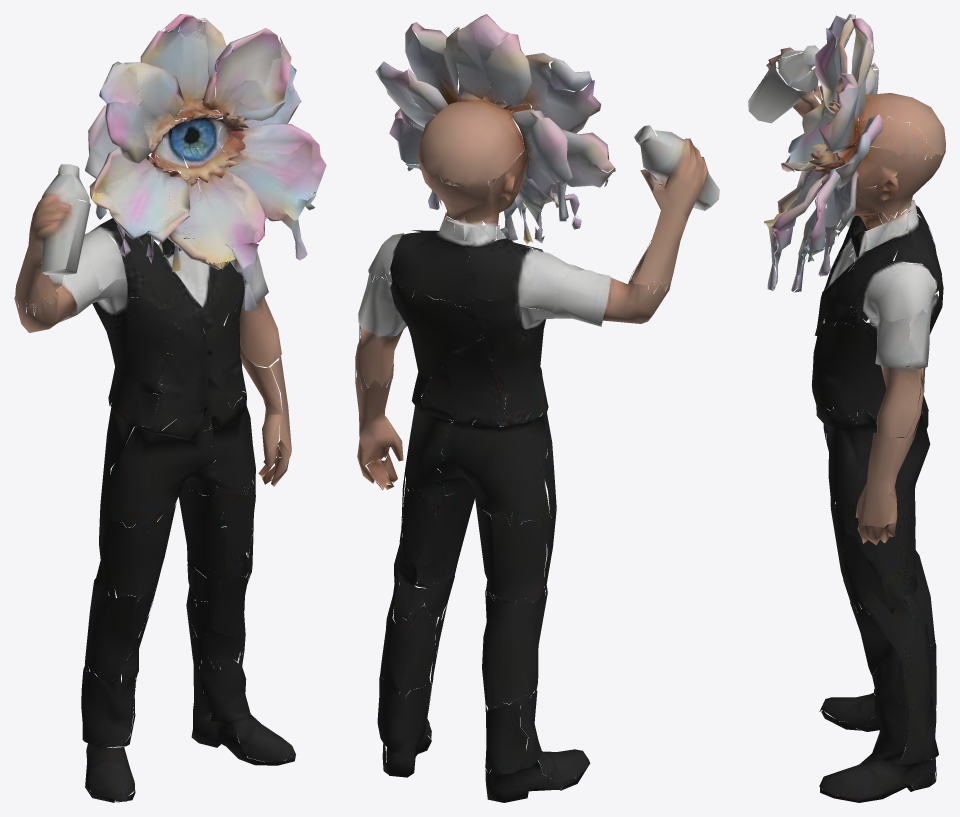
The model's file is crowd_bartender_full.glb.
The picture shows the model from 3 angles, left to right: view 1: azimuth 30°, elevation 25°; view 2: azimuth 150°, elevation 25°; view 3: azimuth 270°, elevation 25°; orthographic projection. The views are drawn at different scales.
Visible parts, largest first — view 1: tripo_node_8f611393-628a-4c04-9a16-76a25f729728; view 2: tripo_node_8f611393-628a-4c04-9a16-76a25f729728; view 3: tripo_node_8f611393-628a-4c04-9a16-76a25f729728.
Boxes of the visible parts, bbox=[...] form: tripo_node_8f611393-628a-4c04-9a16-76a25f729728: bbox=[14, 14, 326, 802]; tripo_node_8f611393-628a-4c04-9a16-76a25f729728: bbox=[355, 14, 719, 802]; tripo_node_8f611393-628a-4c04-9a16-76a25f729728: bbox=[748, 14, 945, 802].
Bounding box in the file's own units: 0.424 × 1 × 0.243.
1 material, 1 textured.
